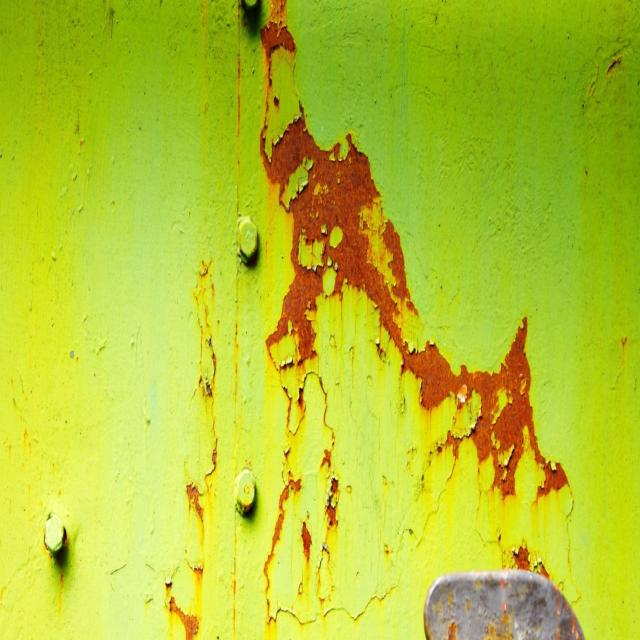Uniform Corrosion: (261, 21, 567, 496), (263, 470, 301, 625), (169, 596, 199, 639), (511, 546, 549, 578), (435, 428, 472, 458), (186, 482, 203, 525), (325, 476, 339, 527), (301, 521, 312, 562), (320, 448, 331, 472), (194, 564, 202, 573)
